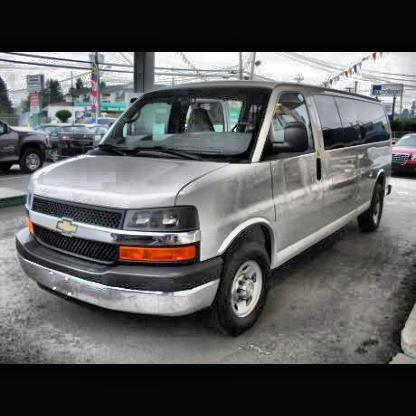Chevrolet Express Van 2007: (14, 80, 394, 344)
